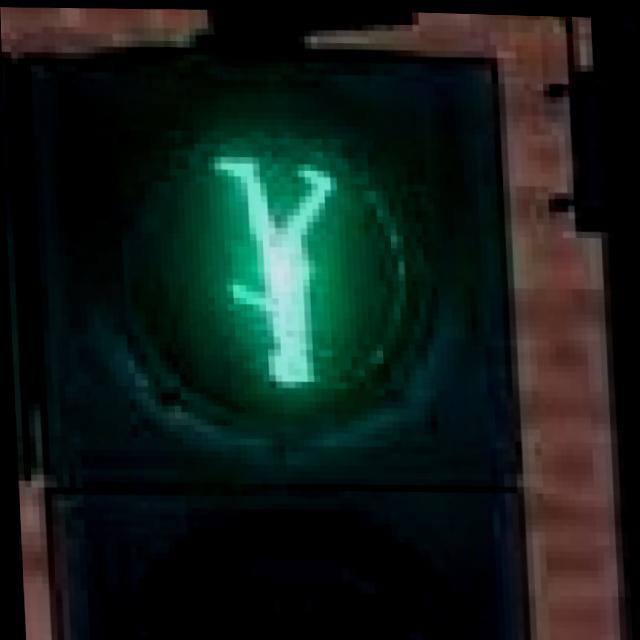green_light: (197, 132, 363, 408)
